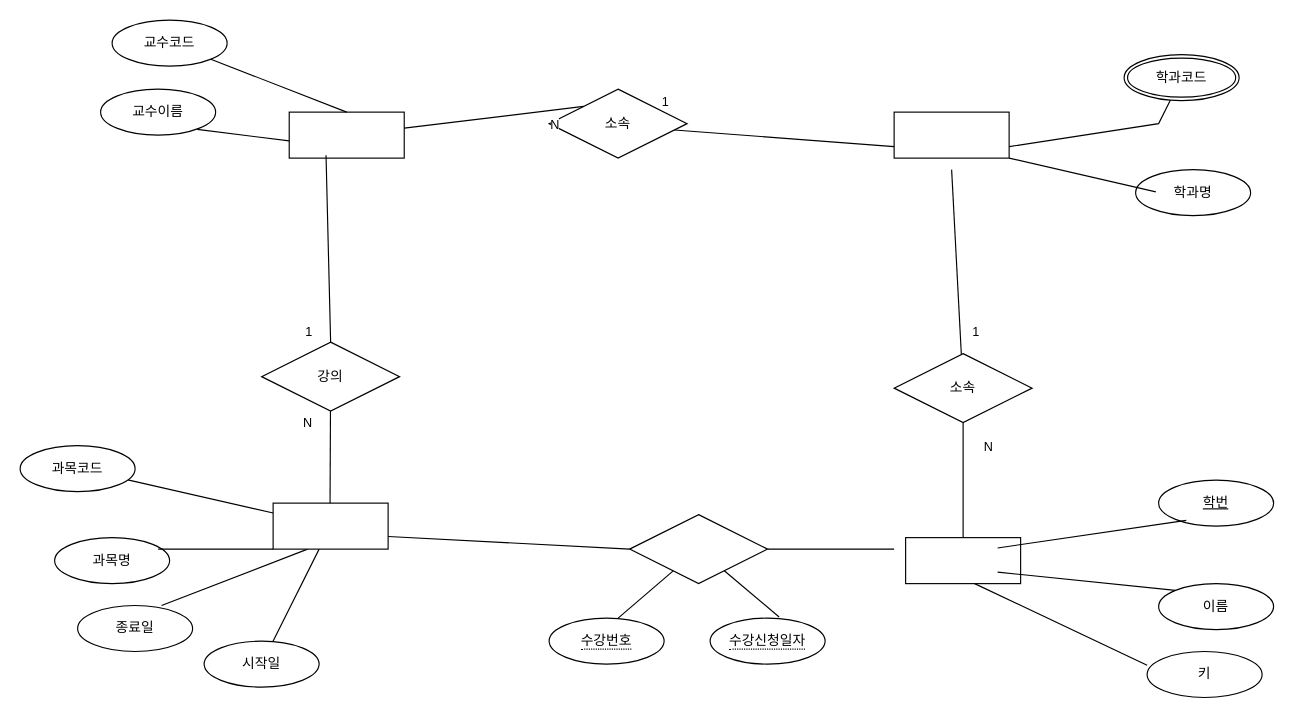
Image size: 1294x718. Some labels were removed from this diagram. Here are the shapes that lost their labels. From the top down, the centre of each, then its label:
point 346,134: 교수
point 951,134: 학과
point 330,525: 과목
point 698,548: 수강
point 962,560: 학생
